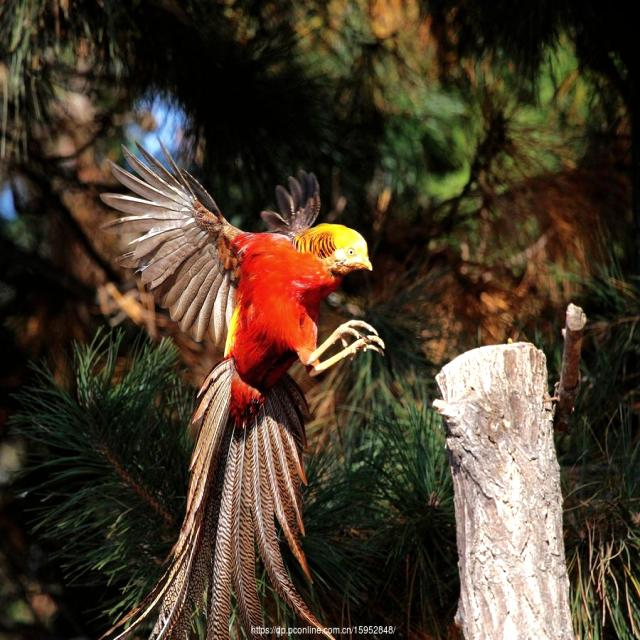Chrysolophus pictus feather: (121, 360, 329, 639)
